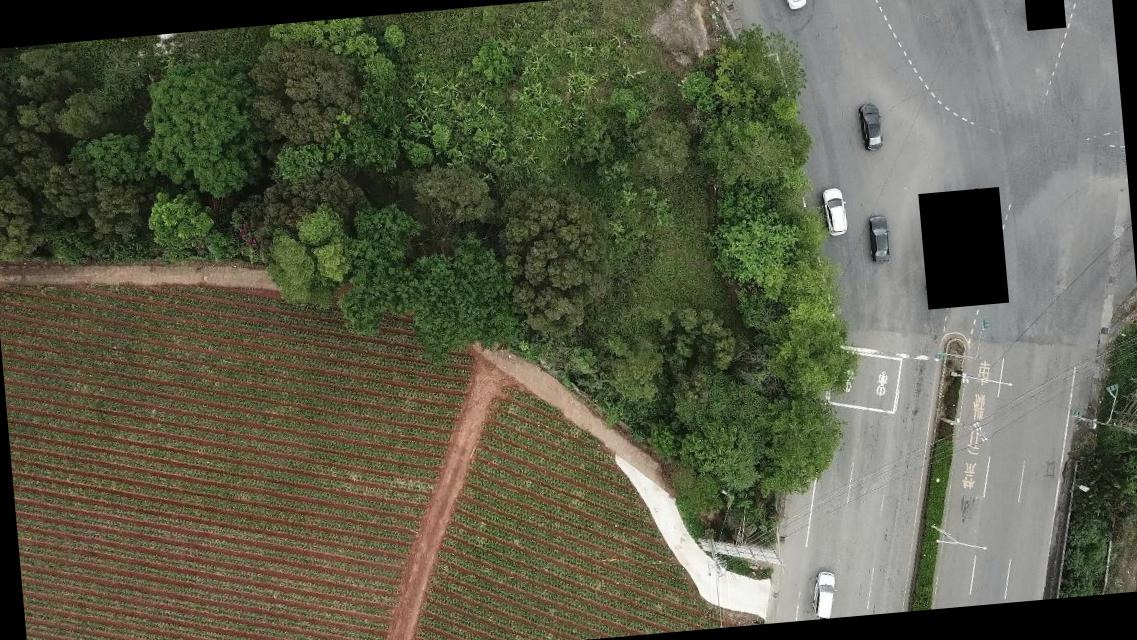vehicle: (807, 569, 840, 619), (866, 212, 893, 266), (820, 186, 848, 238), (858, 102, 884, 155), (777, 0, 810, 15)
